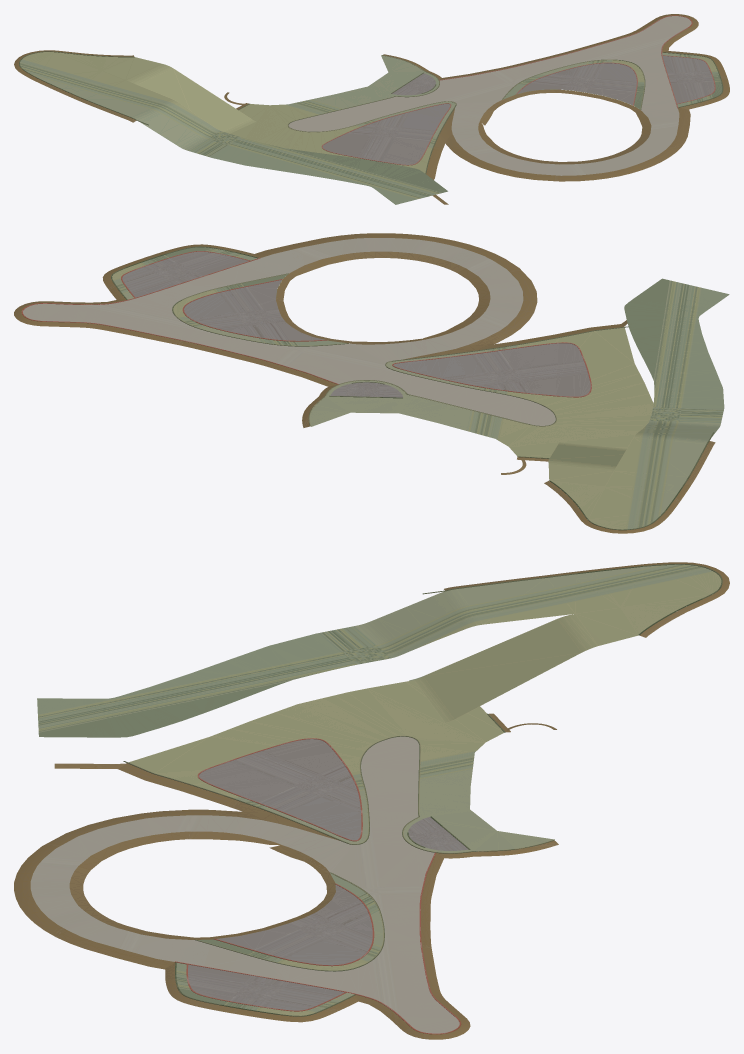
The model's file is objects_un_t07floor01.gltf.
3 renders of one model, top to bottom at view 1: azimuth 30°, elevation 25°; view 2: azimuth 150°, elevation 25°; view 3: azimuth 270°, elevation 25°, orthographic. The views are drawn at different scales.
Parts seen in each view (by area): view 1: um_objects_un_t07floor01_model_lod0Shape:objects_un_t07tile0 (×2), um_objects_un_t07floor01_model_lod0Shape:objects_un_t07wall0, um_objects_un_t07floor01_model_lod0Shape:objects_un_t07groun (×2), um_objects_un_t07floor01_model_lod0Shape:objects_un_t07floor, um_objects_un_t07floor01_model_lod1Shape:objects_un_t07floor, um_objects_un_t07floor01_model_lod1Shape:objects_un_t07tile0 (×2), um_objects_un_t07floor01_model_lod2Shape:objects_un_t07tile0 (×2), um_objects_un_t07floor01_model_lod1Shape:objects_un_t07wall0, um_objects_un_t07floor01_model_lod2Shape:objects_un_t07wall0, um_objects_un_t07floor01_model_lod0Shape:objects_un_t07brick, um_objects_un_t07floor01_model_lod2Shape:objects_un_t07brick, um_objects_un_t07floor01_model_lod1Shape:objects_un_t07brick; view 2: um_objects_un_t07floor01_model_lod0Shape:objects_un_t07tile0 (×2), um_objects_un_t07floor01_model_lod0Shape:objects_un_t07wall0, um_objects_un_t07floor01_model_lod0Shape:objects_un_t07groun (×2), um_objects_un_t07floor01_model_lod0Shape:objects_un_t07floor, um_objects_un_t07floor01_model_lod1Shape:objects_un_t07tile0 (×2), um_objects_un_t07floor01_model_lod1Shape:objects_un_t07floor, um_objects_un_t07floor01_model_lod2Shape:objects_un_t07tile0 (×2), um_objects_un_t07floor01_model_lod1Shape:objects_un_t07wall0, um_objects_un_t07floor01_model_lod2Shape:objects_un_t07wall0, um_objects_un_t07floor01_model_lod0Shape:objects_un_t07brick, um_objects_un_t07floor01_model_lod1Shape:objects_un_t07brick, um_objects_un_t07floor01_model_lod2Shape:objects_un_t07brick; view 3: um_objects_un_t07floor01_model_lod0Shape:objects_un_t07tile0 (×2), um_objects_un_t07floor01_model_lod0Shape:objects_un_t07wall0, um_objects_un_t07floor01_model_lod0Shape:objects_un_t07groun (×2), um_objects_un_t07floor01_model_lod0Shape:objects_un_t07floor, um_objects_un_t07floor01_model_lod2Shape:objects_un_t07tile0 (×2), um_objects_un_t07floor01_model_lod1Shape:objects_un_t07tile0 (×2), um_objects_un_t07floor01_model_lod1Shape:objects_un_t07floor, um_objects_un_t07floor01_model_lod1Shape:objects_un_t07wall0, um_objects_un_t07floor01_model_lod2Shape:objects_un_t07wall0, um_objects_un_t07floor01_model_lod0Shape:objects_un_t07brick, um_objects_un_t07floor01_model_lod2Shape:objects_un_t07brick.
Boxes of the visible parts, x1,y1,x2,y2 form: um_objects_un_t07floor01_model_lod0Shape:objects_un_t07tile0 (×2): (19, 51, 723, 204); um_objects_un_t07floor01_model_lod0Shape:objects_un_t07wall0: (288, 16, 691, 175); um_objects_un_t07floor01_model_lod0Shape:objects_un_t07groun (×2): (14, 18, 729, 204); um_objects_un_t07floor01_model_lod0Shape:objects_un_t07floor: (322, 63, 636, 164); um_objects_un_t07floor01_model_lod1Shape:objects_un_t07floor: (336, 56, 714, 160); um_objects_un_t07floor01_model_lod1Shape:objects_un_t07tile0 (×2): (19, 51, 723, 204); um_objects_un_t07floor01_model_lod2Shape:objects_un_t07tile0 (×2): (27, 52, 722, 169); um_objects_un_t07floor01_model_lod1Shape:objects_un_t07wall0: (290, 16, 690, 128); um_objects_un_t07floor01_model_lod2Shape:objects_un_t07wall0: (458, 100, 679, 175); um_objects_un_t07floor01_model_lod0Shape:objects_un_t07brick: (321, 15, 715, 165); um_objects_un_t07floor01_model_lod2Shape:objects_un_t07brick: (323, 15, 715, 164); um_objects_un_t07floor01_model_lod1Shape:objects_un_t07brick: (322, 18, 715, 165); um_objects_un_t07floor01_model_lod0Shape:objects_un_t07tile0 (×2): (111, 246, 727, 530); um_objects_un_t07floor01_model_lod0Shape:objects_un_t07wall0: (23, 238, 555, 425); um_objects_un_t07floor01_model_lod0Shape:objects_un_t07groun (×2): (41, 233, 715, 533); um_objects_un_t07floor01_model_lod0Shape:objects_un_t07floor: (184, 280, 590, 397); um_objects_un_t07floor01_model_lod1Shape:objects_un_t07tile0 (×2): (112, 246, 729, 529); um_objects_un_t07floor01_model_lod1Shape:objects_un_t07floor: (122, 251, 558, 396); um_objects_un_t07floor01_model_lod2Shape:objects_un_t07tile0 (×2): (111, 247, 717, 518); um_objects_un_t07floor01_model_lod1Shape:objects_un_t07wall0: (28, 285, 555, 424); um_objects_un_t07floor01_model_lod2Shape:objects_un_t07wall0: (245, 240, 523, 353); um_objects_un_t07floor01_model_lod0Shape:objects_un_t07brick: (21, 251, 591, 397); um_objects_un_t07floor01_model_lod1Shape:objects_un_t07brick: (22, 252, 591, 397); um_objects_un_t07floor01_model_lod2Shape:objects_un_t07brick: (22, 251, 591, 397); um_objects_un_t07floor01_model_lod0Shape:objects_un_t07tile0 (×2): (37, 564, 722, 1016); um_objects_un_t07floor01_model_lod0Shape:objects_un_t07wall0: (30, 737, 459, 1033); um_objects_un_t07floor01_model_lod0Shape:objects_un_t07groun (×2): (14, 562, 729, 1030); um_objects_un_t07floor01_model_lod0Shape:objects_un_t07floor: (199, 739, 465, 965); um_objects_un_t07floor01_model_lod2Shape:objects_un_t07tile0 (×2): (126, 564, 696, 1015); um_objects_un_t07floor01_model_lod1Shape:objects_un_t07tile0 (×2): (37, 564, 722, 1016); um_objects_un_t07floor01_model_lod1Shape:objects_un_t07floor: (188, 752, 468, 1010); um_objects_un_t07floor01_model_lod1Shape:objects_un_t07wall0: (274, 736, 455, 1018); um_objects_un_t07floor01_model_lod2Shape:objects_un_t07wall0: (31, 815, 208, 965); um_objects_un_t07floor01_model_lod0Shape:objects_un_t07brick: (178, 738, 461, 1034); um_objects_un_t07floor01_model_lod2Shape:objects_un_t07brick: (188, 738, 460, 1033).
Size of what is drawn, in the model's own units: 199 by 10.82 by 140.
8 materials, 8 textured.
